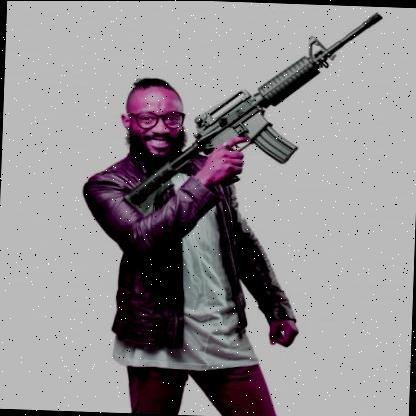rifle: (125, 3, 383, 237)
